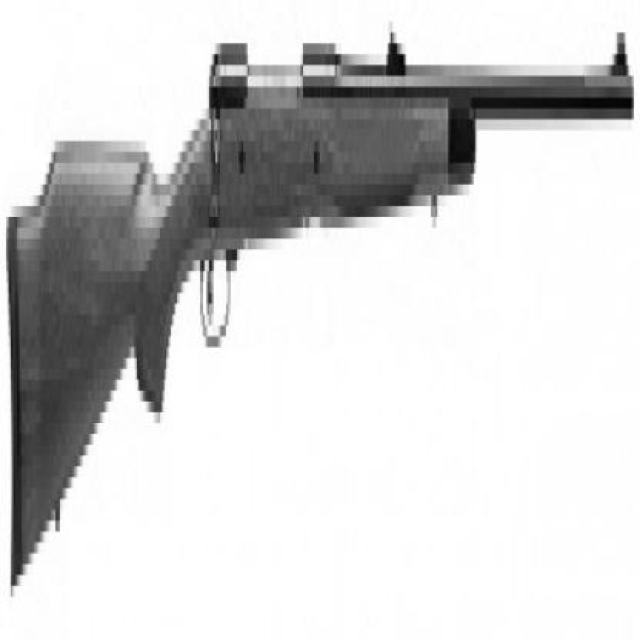weapon: (5, 28, 633, 598)
